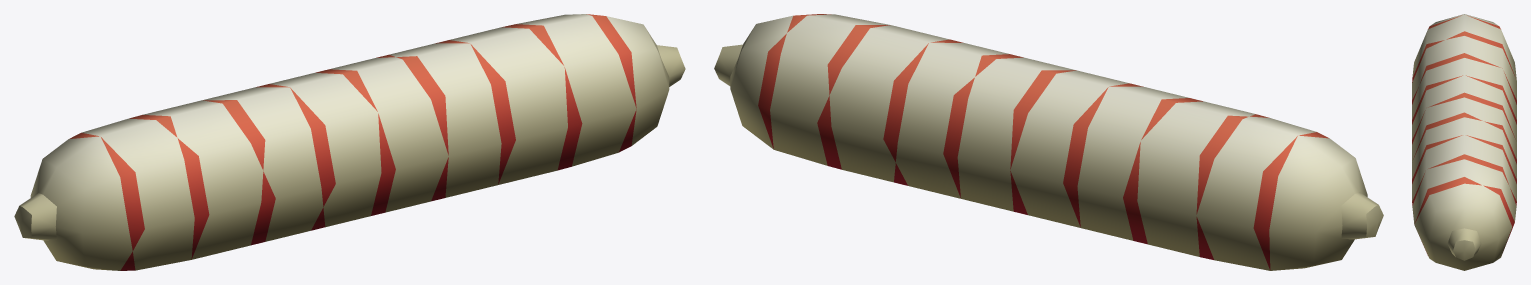
The model's file is Salami_01.glb.
The picture shows the model from 3 angles, left to right: view 1: azimuth 30°, elevation 25°; view 2: azimuth 150°, elevation 25°; view 3: azimuth 270°, elevation 25°; orthographic projection. The views are drawn at different scales.
Parts seen in each view (by area): view 1: Salami_01; view 2: Salami_01; view 3: Salami_01.
Part boxes in pixels (x1,y1,x2,y2): Salami_01: [14, 14, 685, 270]; Salami_01: [714, 14, 1383, 270]; Salami_01: [1412, 14, 1516, 270].
Bounding box in the file's own units: 0.906 × 0.1842 × 0.1842.
Materials: 1 (1 with a texture image).
